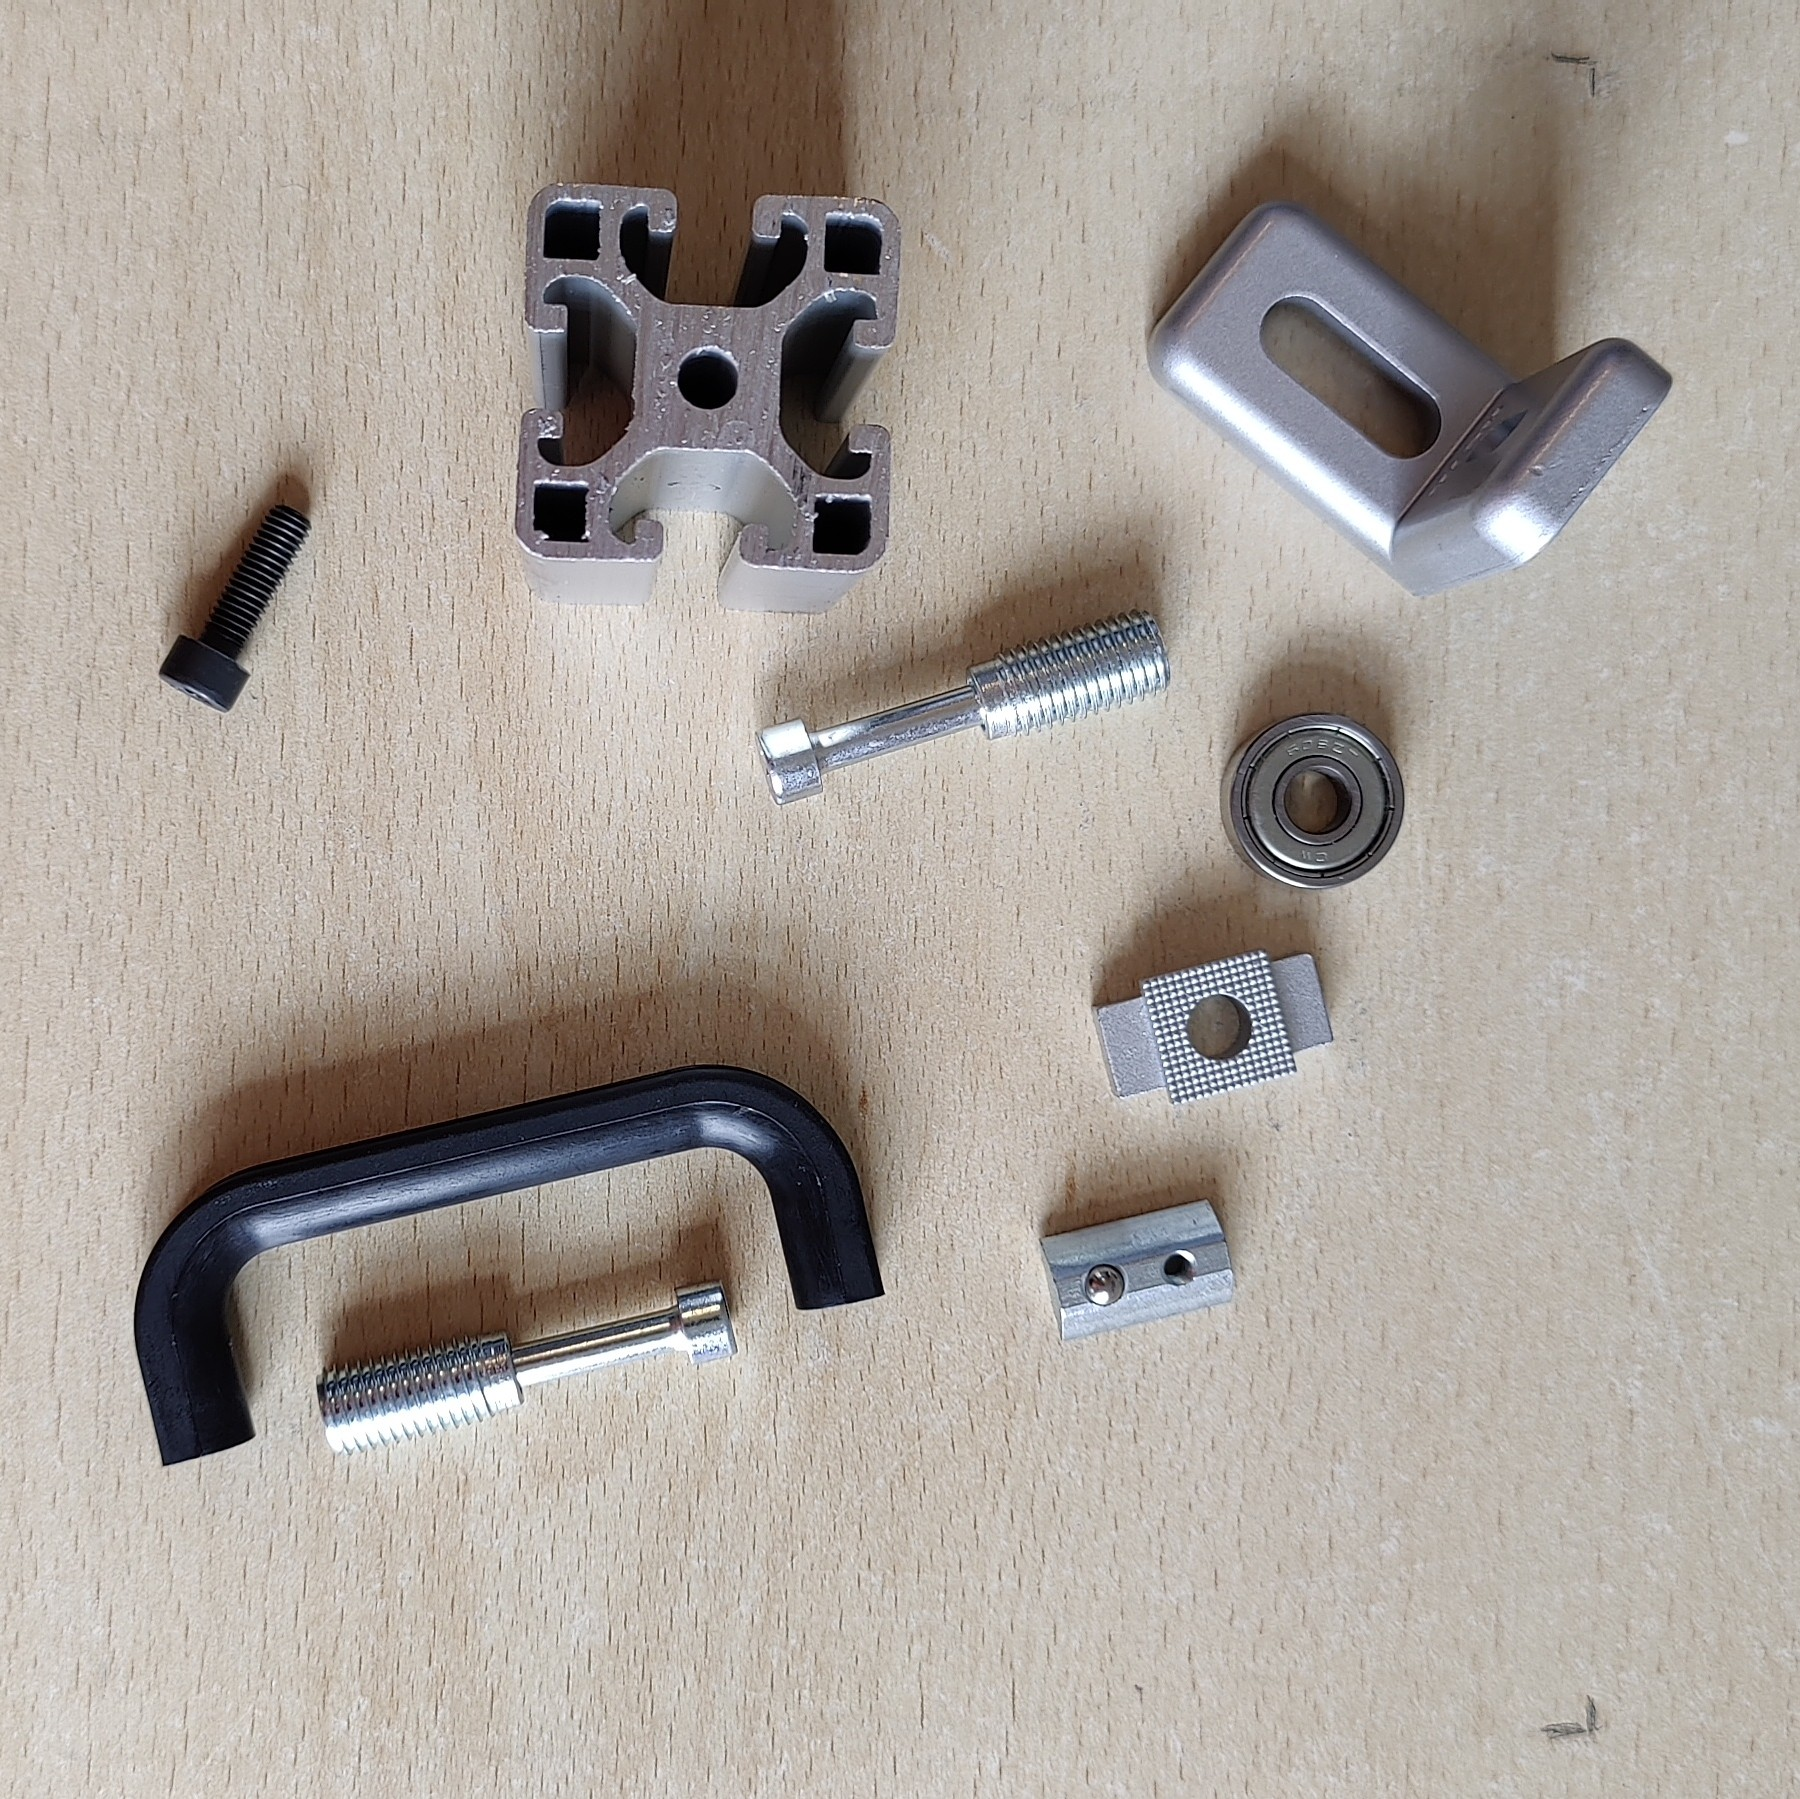Aluminium Extension: (511, 180, 906, 618)
Ball Bearing: (1219, 708, 1406, 895)
Multiwinkel: (1143, 196, 1675, 600)
Pull Handle: (132, 1061, 888, 1473)
Shoulder Socket Head Cap Screw: (749, 606, 1174, 806), (315, 1277, 739, 1458)
Socket Head Cap Screw: (160, 499, 315, 715)
T Nut Square: (1089, 946, 1341, 1110)
T Spring Nut: (1036, 1196, 1238, 1344)
